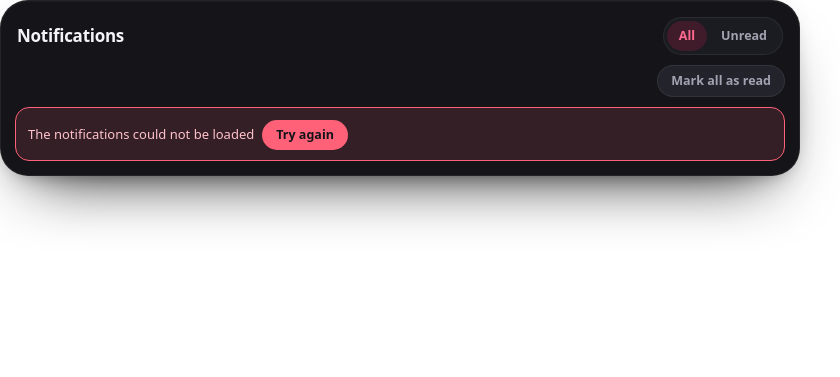
Test: Inbox filters and paging › shows the first-page error with a retry and keeps retrying only the failure
Expected: the text "The notifications could not be loaded" is shown, [28, 125, 254, 144]
Click the button "Try again": (305, 135) [262, 120, 348, 150]
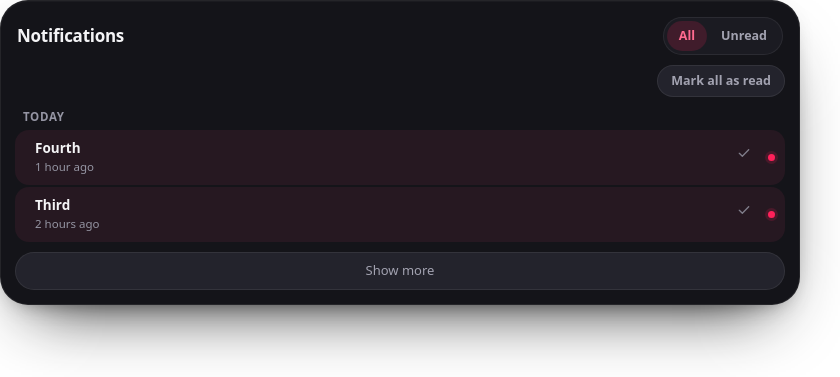
Expected: the text "Fourth" is shown, [35, 139, 80, 157]
Expected: the text "The notifications could not be loaded" is gone
